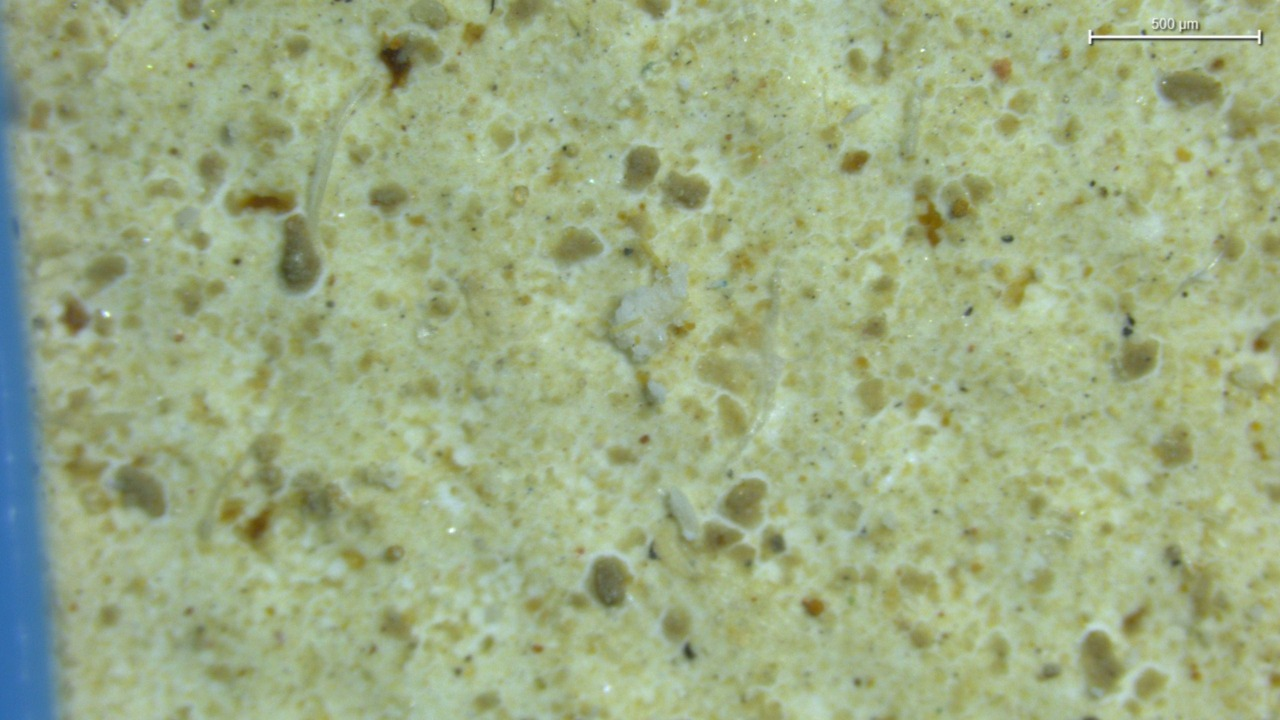microplastic_fragment: (610, 264, 688, 362), (665, 488, 701, 541)
